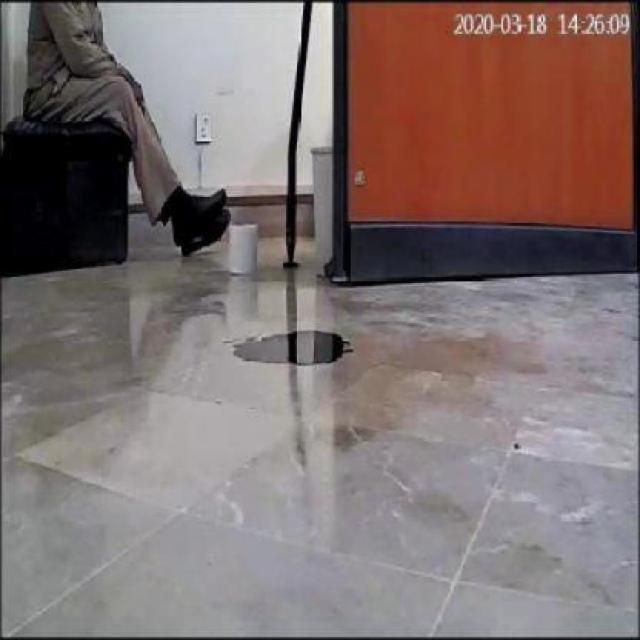spillage: (218, 328, 360, 373)
